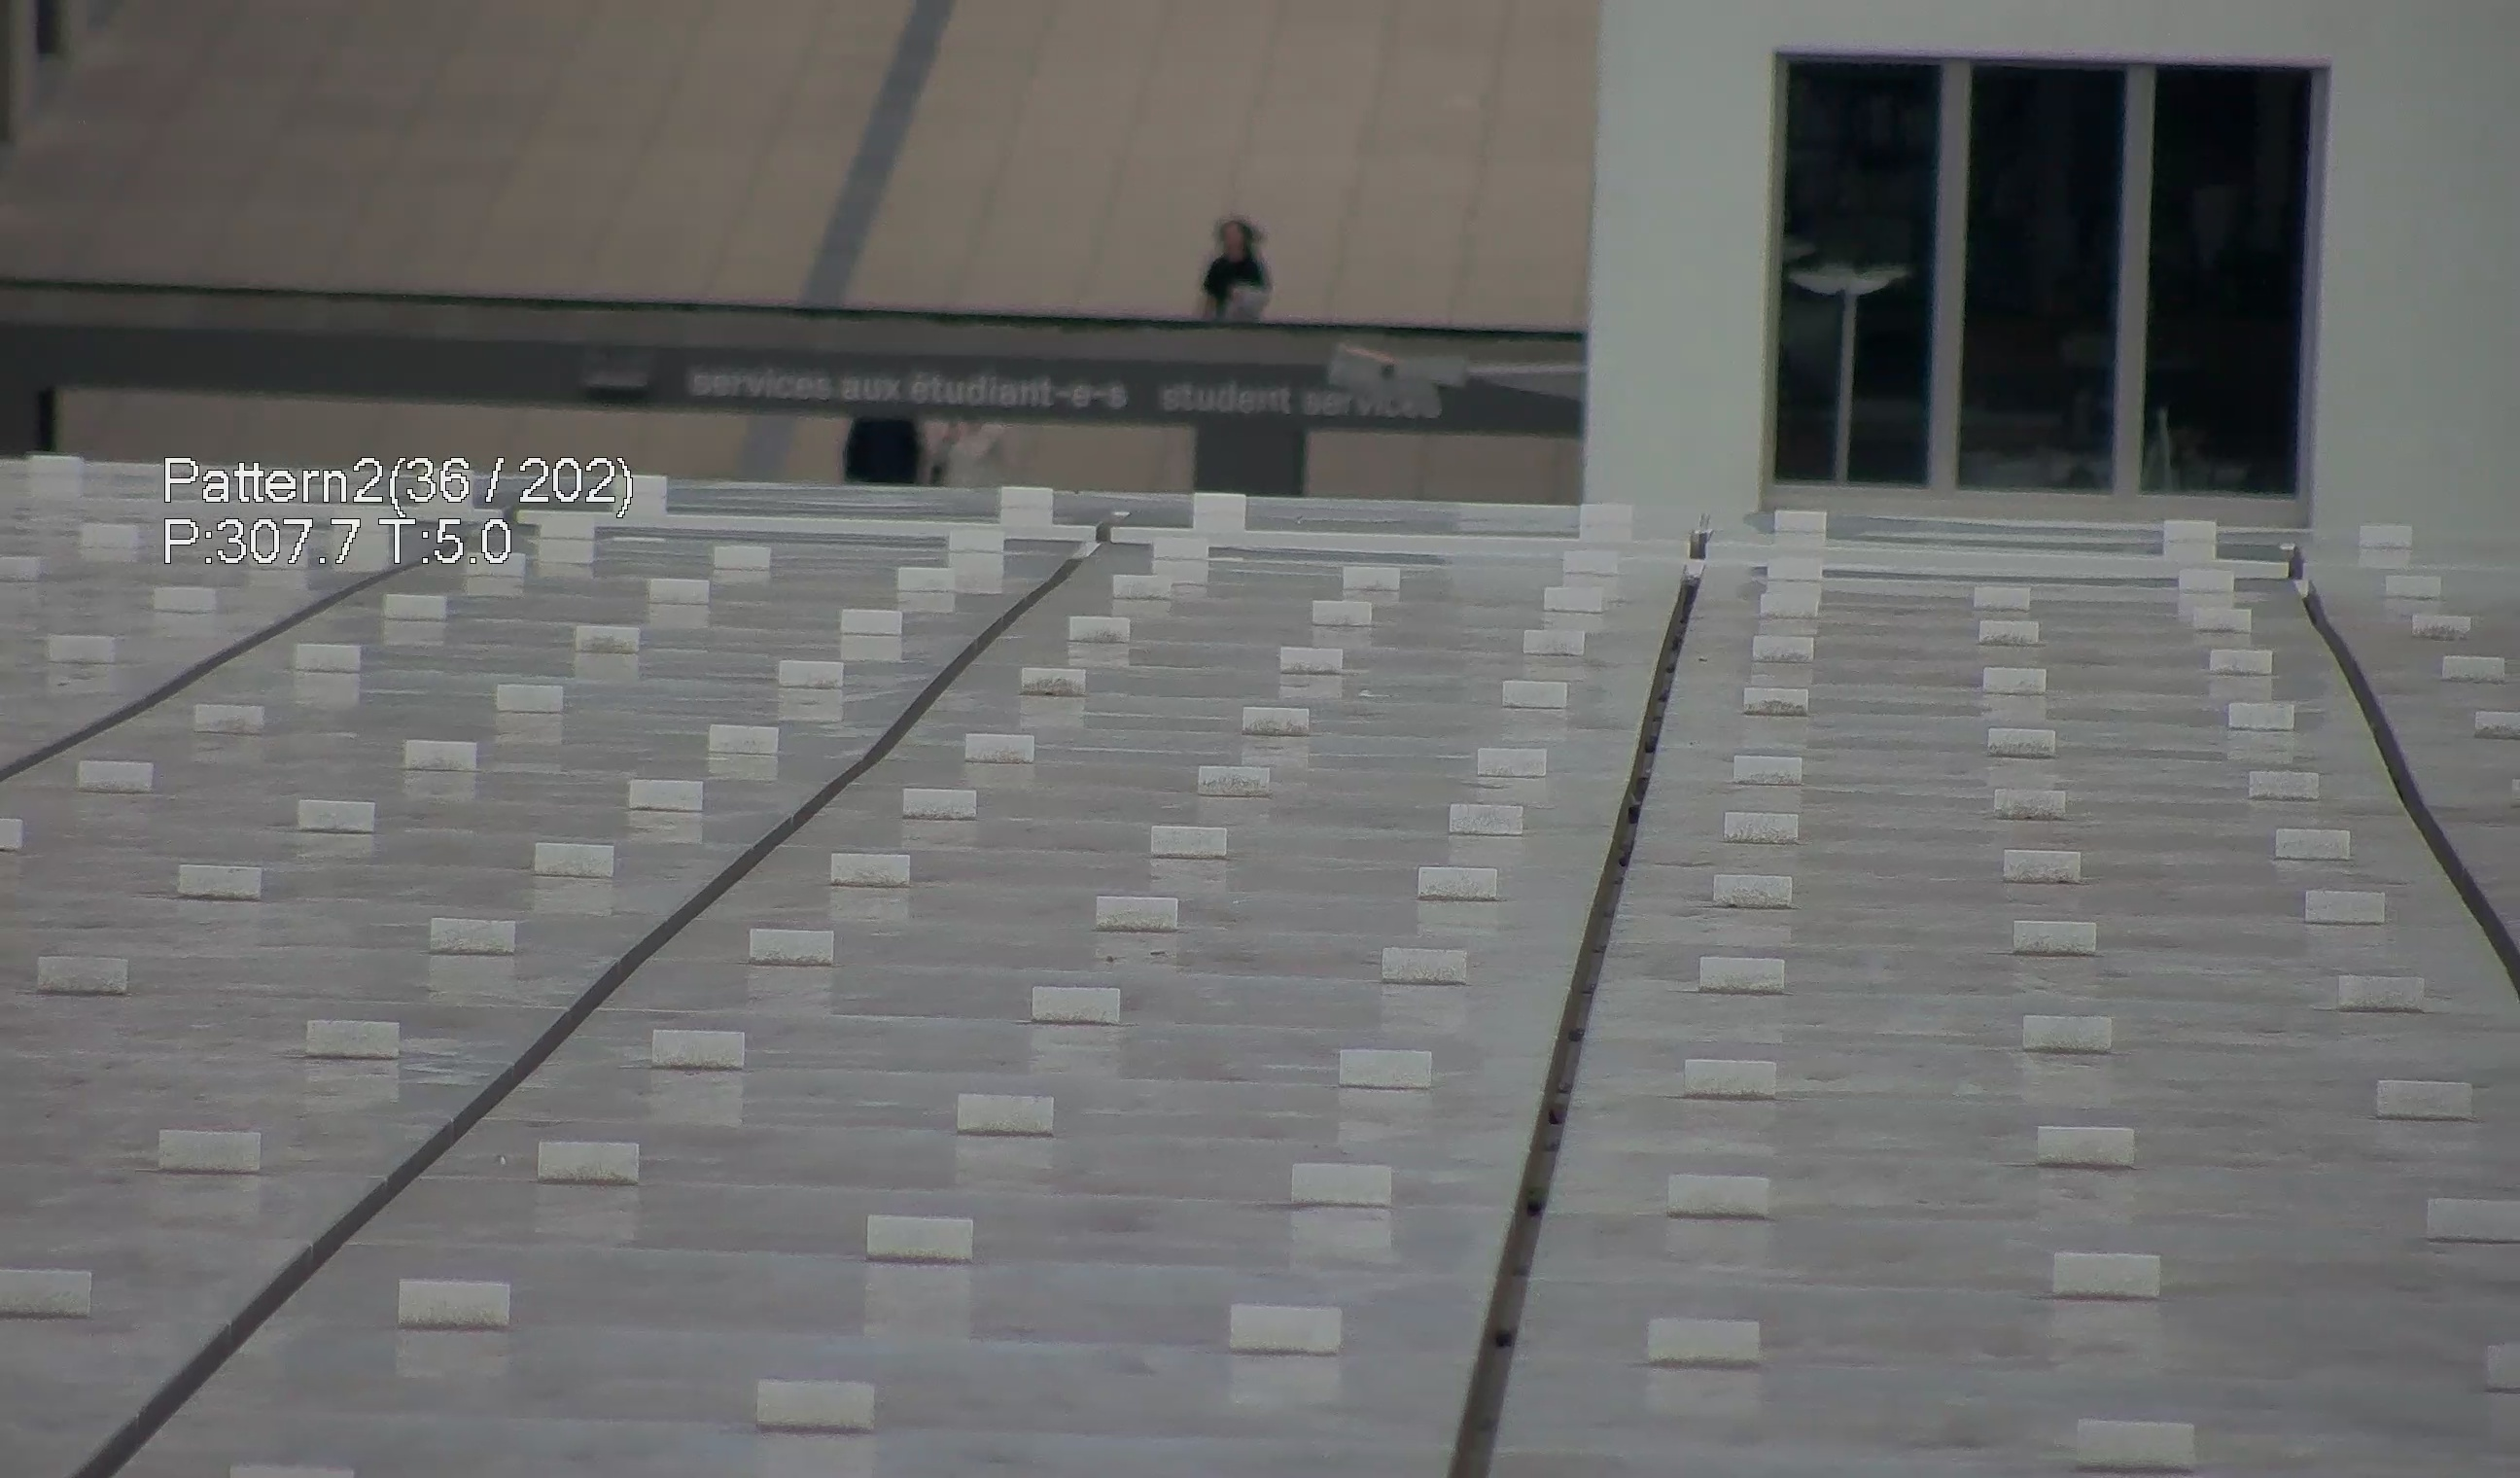Other: (1178, 202, 1282, 327)
